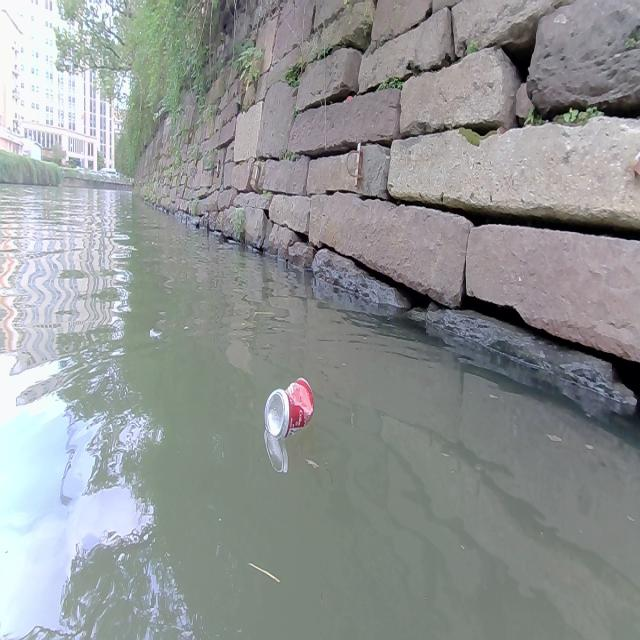bottle: (264, 374, 314, 438)
